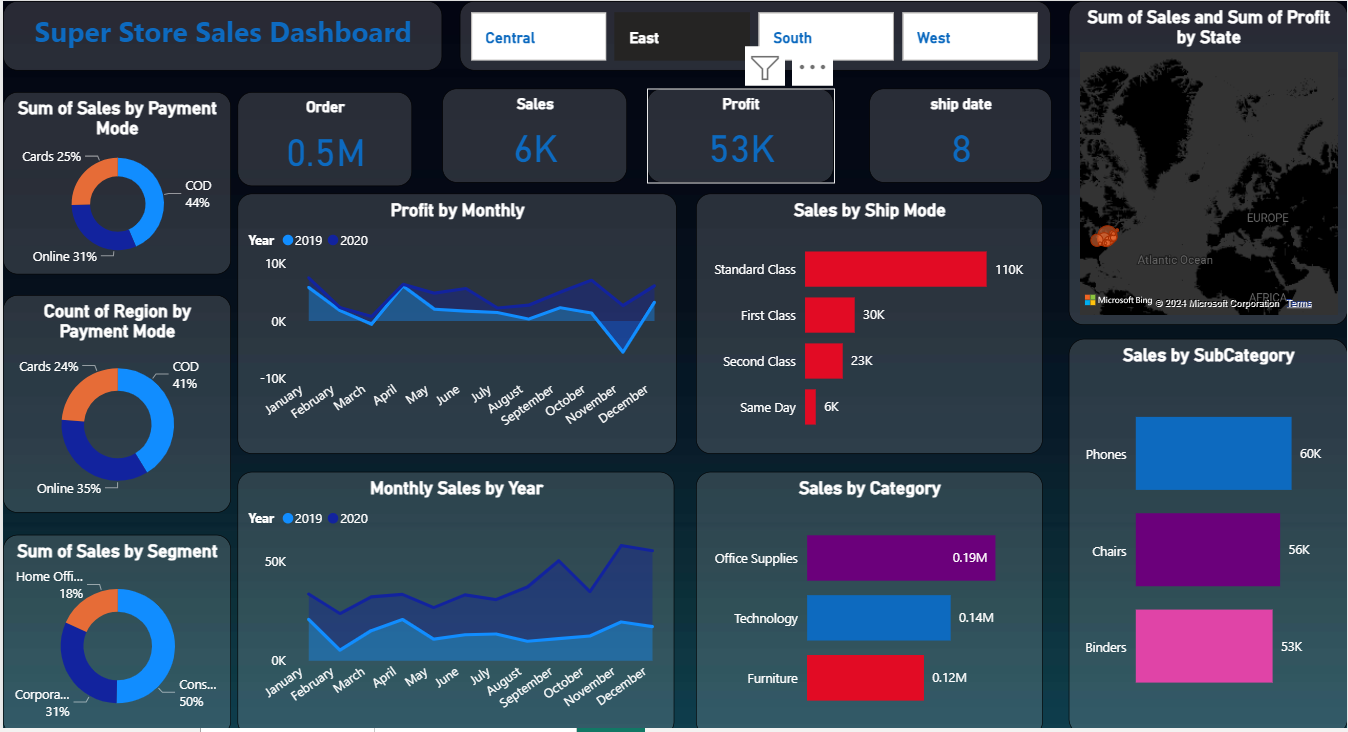

The dashboard page shown, as its layout file describes it:
{"tool":"powerbi","page":{"name":"Dashbaord","canvas":[1280,720],"ordinal":0},"visuals":[{"type":"clusteredBarChart","title":"Sales by Category","fields":{"Y":["Sum(SuperStore_Sales_Dataset.Sales)"],"Category":["SuperStore_Sales_Dataset.Category"]},"box":[660.5,447.5,330.3,252.1],"z":0},{"type":"clusteredBarChart","title":"Sales by SubCategory","fields":{"Y":["Sum(SuperStore_Sales_Dataset.Sales)"],"Category":["SuperStore_Sales_Dataset.Sub-Category"]},"box":[1014.3,322.5,265.8,377.2],"z":1000},{"type":"clusteredBarChart","title":"Sales by Ship Mode","fields":{"Y":["Sum(SuperStore_Sales_Dataset.Sales)"],"Category":["SuperStore_Sales_Dataset.Ship Mode"]},"box":[660.5,183.7,330.3,248.2],"z":2000},{"type":"stackedAreaChart","title":"Monthly Sales by Year","fields":{"Y":["Sum(SuperStore_Sales_Dataset.Sales)"],"Category":["SuperStore_Sales_Dataset.Order Date.Variation.Date Hierarchy.Month"],"Series":["SuperStore_Sales_Dataset.Order Date.Variation.Date Hierarchy.Year"]},"box":[222.8,447.5,416.3,252.1],"z":3000},{"type":"stackedAreaChart","title":"Profit by Monthly","fields":{"Category":["SuperStore_Sales_Dataset.Order Date.Variation.Date Hierarchy.Month"],"Series":["SuperStore_Sales_Dataset.Order Date.Variation.Date Hierarchy.Year"],"Y":["Sum(SuperStore_Sales_Dataset.Profit)"]},"box":[222.8,183.7,418.2,248.2],"z":4000},{"type":"map","fields":{"Category":["SuperStore_Sales_Dataset.State"],"Size":["Sum(SuperStore_Sales_Dataset.Sales)"]},"box":[1014.3,0,265.8,308.8],"z":5000},{"type":"donutChart","fields":{"Category":["SuperStore_Sales_Dataset.Segment"],"Y":["Sum(SuperStore_Sales_Dataset.Sales)"]},"box":[0,508.1,216.9,191.5],"z":6000},{"type":"donutChart","fields":{"Category":["SuperStore_Sales_Dataset.Payment Mode"],"Y":["Sum(SuperStore_Sales_Dataset.Sales)"]},"box":[0,86,216.9,173.9],"z":7000},{"type":"donutChart","fields":{"Category":["SuperStore_Sales_Dataset.Payment Mode"],"Y":["CountNonNull(SuperStore_Sales_Dataset.Region)"]},"box":[0,279.5,216.9,207.2],"z":8000},{"type":"advancedSlicerVisual","fields":{"Values":["SuperStore_Sales_Dataset.Region"]},"box":[435.8,0,562.8,66.4],"z":9000},{"type":"textbox","box":[0,0,418.2,66.4],"z":10000},{"type":"card","title":"Order","fields":{"Values":["Sum(SuperStore_Sales_Dataset.Sales)"]},"box":[222.8,86,166.1,89.9],"z":11000},{"type":"card","title":"Sales","fields":{"Values":["Sum(SuperStore_Sales_Dataset.Quantity)"]},"box":[418.2,84,175.9,89.9],"z":12000},{"type":"card","title":"Profit","fields":{"Values":["Sum(SuperStore_Sales_Dataset.Profit)"]},"box":[613.6,84,177.8,89.9],"z":13000},{"type":"card","title":"ship date","fields":{"Values":["Avg(SuperStore_Sales_Dataset.AvgDelivery)"]},"box":[824.7,84,173.9,89.9],"z":14000}]}

Visuals, with their boxes on the page's 1280x720 design canvas (x1, y1, x2, y2). These are canvas units, not pixel positions in the 1348x732 screenshot, which may show the page scaled, cropped or inside an application window:
"Sales by Category" clusteredBarChart: bbox(660, 448, 991, 700)
"Sales by SubCategory" clusteredBarChart: bbox(1014, 322, 1280, 700)
"Sales by Ship Mode" clusteredBarChart: bbox(660, 184, 991, 432)
"Monthly Sales by Year" stackedAreaChart: bbox(223, 448, 639, 700)
"Profit by Monthly" stackedAreaChart: bbox(223, 184, 641, 432)
map - SuperStore_Sales_Dataset.State x Sum(SuperStore_Sales_Dataset.Sales): bbox(1014, 0, 1280, 309)
donutChart - SuperStore_Sales_Dataset.Segment x Sum(SuperStore_Sales_Dataset.Sales): bbox(0, 508, 217, 700)
donutChart - SuperStore_Sales_Dataset.Payment Mode x Sum(SuperStore_Sales_Dataset.Sales): bbox(0, 86, 217, 260)
donutChart - SuperStore_Sales_Dataset.Payment Mode x CountNonNull(SuperStore_Sales_Dataset.Region): bbox(0, 280, 217, 487)
advancedSlicerVisual - SuperStore_Sales_Dataset.Region: bbox(436, 0, 999, 66)
textbox: bbox(0, 0, 418, 66)
"Order" card: bbox(223, 86, 389, 176)
"Sales" card: bbox(418, 84, 594, 174)
"Profit" card: bbox(614, 84, 791, 174)
"ship date" card: bbox(825, 84, 999, 174)
